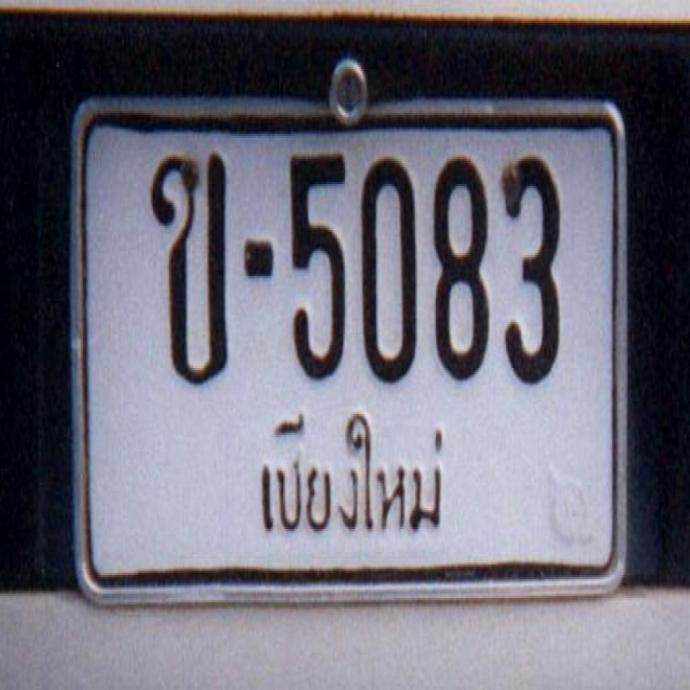0: (359, 155, 414, 383)
3: (500, 153, 560, 385)
5: (288, 150, 345, 382)
8: (432, 153, 488, 381)
A02: (150, 148, 226, 383)
CMI: (247, 402, 457, 553)
